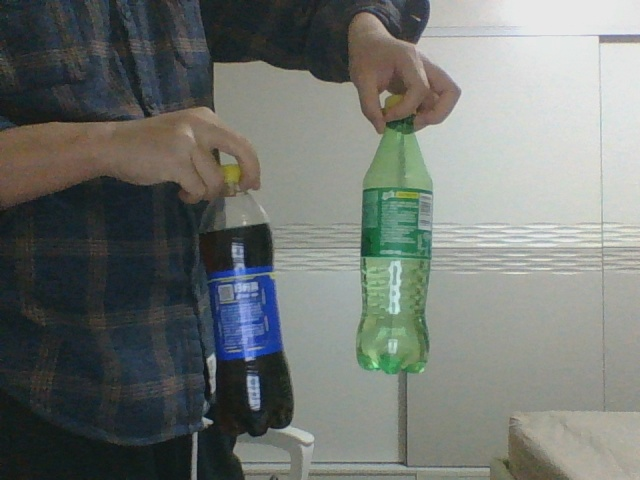Cola: (200, 168, 295, 433)
Sprite: (360, 95, 435, 374)
